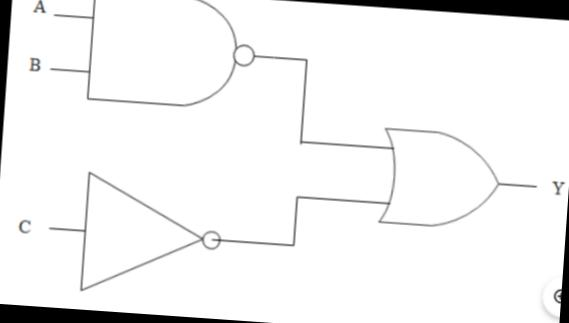nand: (72, 0, 263, 116)
not: (76, 162, 229, 301)
or: (366, 111, 508, 239)
